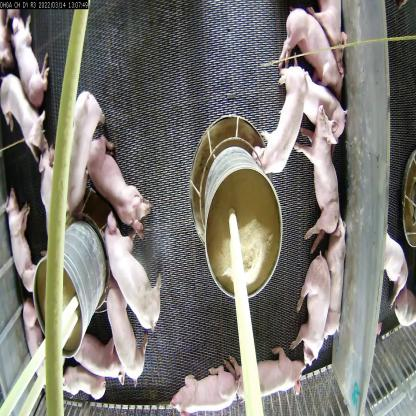Pig: (94, 213, 166, 328), (296, 102, 341, 251), (276, 0, 344, 98), (85, 126, 146, 235), (254, 60, 306, 179), (223, 333, 305, 406), (104, 276, 152, 392), (8, 1, 57, 111), (62, 310, 130, 388), (291, 252, 331, 374), (163, 352, 240, 415), (61, 95, 102, 208), (4, 174, 41, 298), (290, 68, 347, 147), (0, 67, 45, 162), (322, 203, 346, 344), (52, 365, 112, 415), (18, 294, 52, 374), (34, 146, 60, 246)
